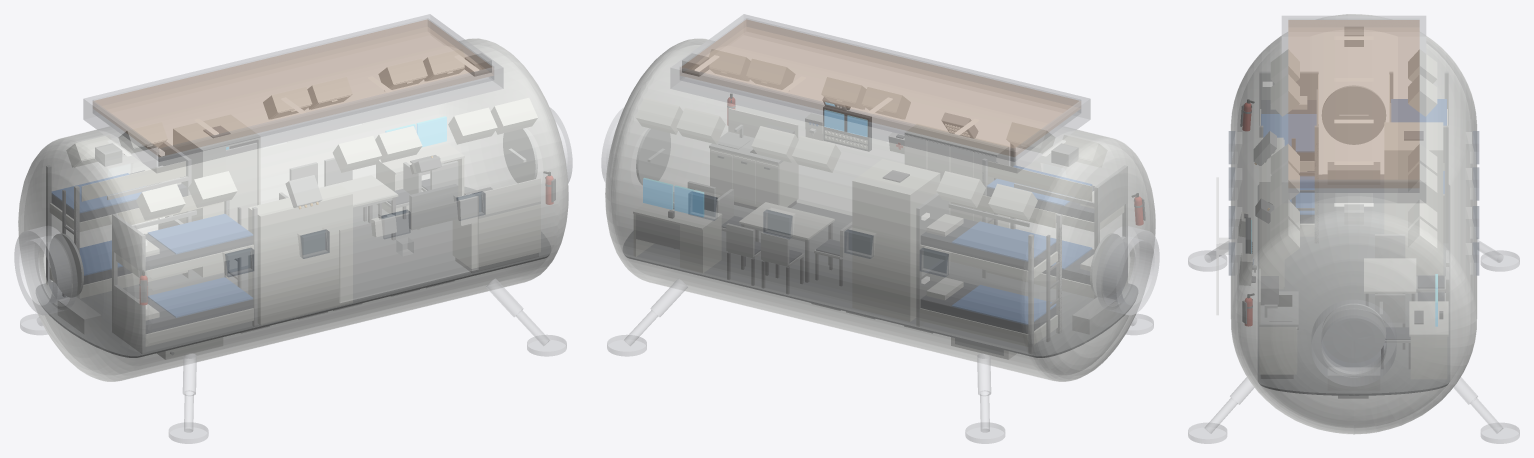
The model's file is rover10_surface_hab_stowed_combined.glb.
The picture shows the model from 3 angles, left to right: view 1: azimuth 30°, elevation 25°; view 2: azimuth 150°, elevation 25°; view 3: azimuth 270°, elevation 25°; orthographic projection.
Parts seen in each view (by area): view 1: pressure_vessel, ext_hull, ext_regolith_fill, ext_shield_tray, stowage_lockers, deck_floor, ext_radiator, eq39_1_body, eq39_2_body, ext_hatch_collars, eq34_1_blankets, eq37_1_cabinet (+28 smaller); view 2: pressure_vessel, ext_hull, ext_regolith_fill, ext_shield_tray, stowage_lockers, deck_floor, eq40_1_walls, ext_hatch_collars, eq34_2_blankets, eq34_2_mattresses, eq34_2_berths, ext_windows (+34 smaller); view 3: pressure_vessel, ext_hull, ext_regolith_fill, deck_floor, ext_shield_tray, stowage_lockers, eq40_1_walls, ext_hatch_collars, hatch_door_1, hatch_door_2, ext_foot_pads, eq34_1_blankets (+24 smaller).
Part boxes in pixels (x1,y1,x2,y2): pressure_vessel: (18,39,568,381); ext_hull: (18,38,568,381); ext_regolith_fill: (93,19,493,156); ext_shield_tray: (83,14,503,172); stowage_lockers: (66,49,537,220); deck_floor: (36,187,550,357); ext_radiator: (339,196,478,302); eq39_1_body: (248,197,306,324); eq39_2_body: (307,185,352,313); ext_hatch_collars: (14,108,572,314); eq34_1_blankets: (148,214,252,317); eq37_1_cabinet: (453,204,540,268); pressure_vessel: (605,38,1155,381); ext_hull: (605,39,1155,381); ext_regolith_fill: (680,19,1080,156); ext_shield_tray: (670,14,1090,172); stowage_lockers: (636,49,1107,220); deck_floor: (623,203,1137,357); eq40_1_walls: (852,159,939,321); ext_hatch_collars: (601,108,1159,314); eq34_2_blankets: (952,221,1055,324); eq34_2_mattresses: (921,219,1055,333); eq34_2_berths: (920,245,1057,346); ext_windows: (688,191,948,276); pressure_vessel: (1231,14,1476,433); ext_hull: (1231,14,1476,434); ext_regolith_fill: (1288,20,1419,187); deck_floor: (1258,174,1449,395); ext_shield_tray: (1282,16,1425,202); stowage_lockers: (1271,49,1436,260); eq40_1_walls: (1384,122,1442,274); ext_hatch_collars: (1311,300,1396,386); hatch_door_1: (1322,304,1385,362); hatch_door_2: (1322,85,1385,144); ext_foot_pads: (1188,250,1519,443); eq34_1_blankets: (1261,114,1316,214).
Bounding box in the file's own units: 8.91 × 4.21 × 5.05.
